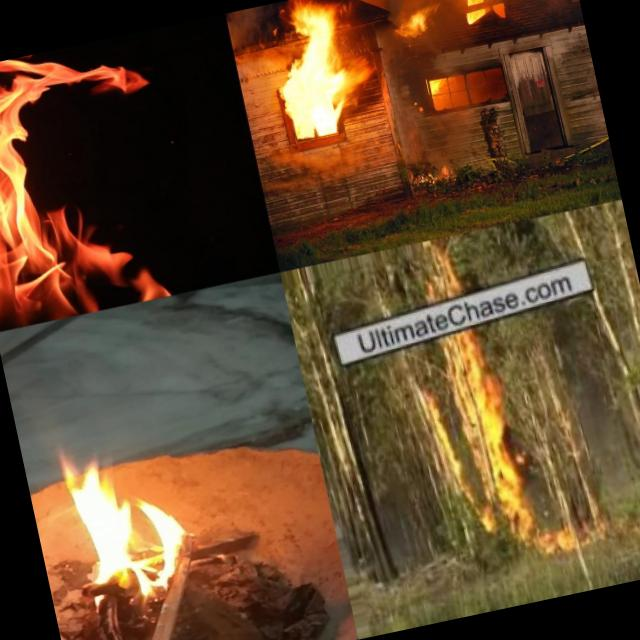fire: (0, 32, 190, 332), (22, 423, 212, 622), (400, 338, 552, 574), (260, 0, 365, 143), (387, 0, 444, 48), (412, 156, 454, 188), (453, 0, 529, 16), (428, 74, 452, 98)
